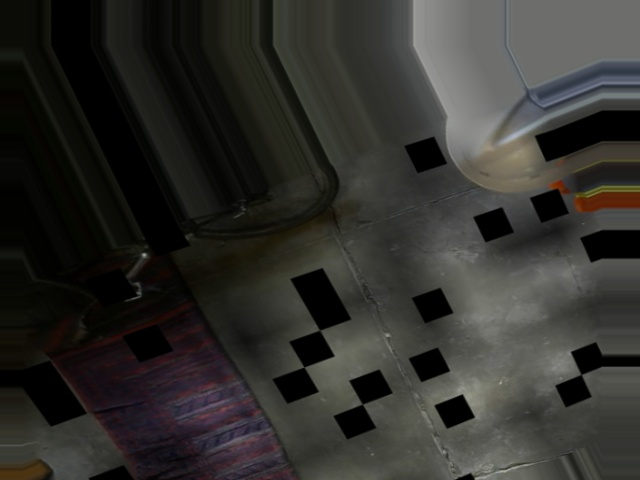eight: (515, 65, 582, 120)
